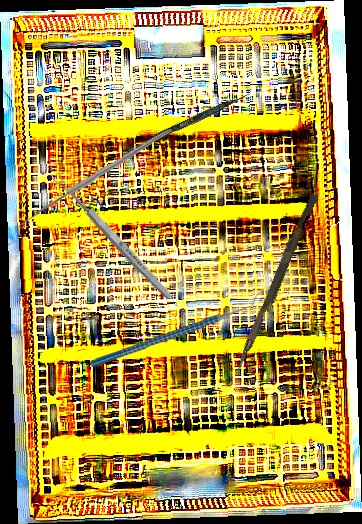Chopper: (88, 291, 263, 368)
Hook Surgical: (14, 126, 176, 237)
Pusher: (233, 190, 320, 377)
Spatula Surgical: (122, 88, 251, 158)
Surgical Spoon: (51, 171, 174, 302)
